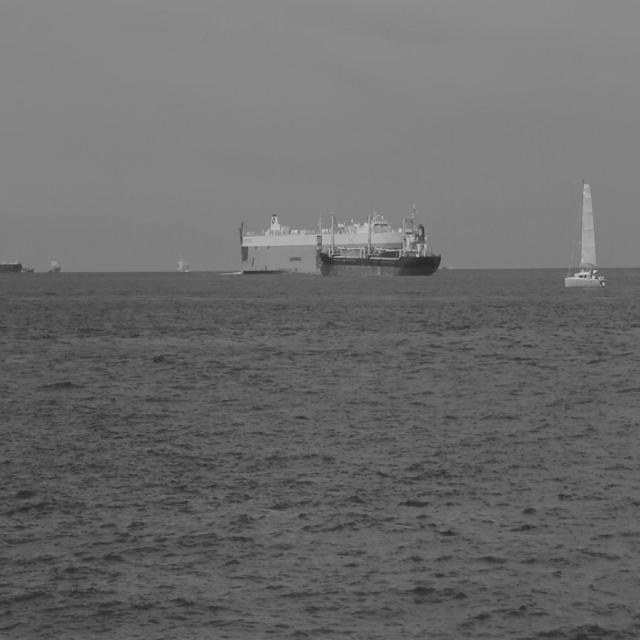ship: (236, 210, 404, 276), (318, 202, 442, 277), (564, 177, 606, 289), (0, 256, 23, 274), (46, 255, 62, 275), (175, 254, 190, 274), (21, 264, 35, 274)
